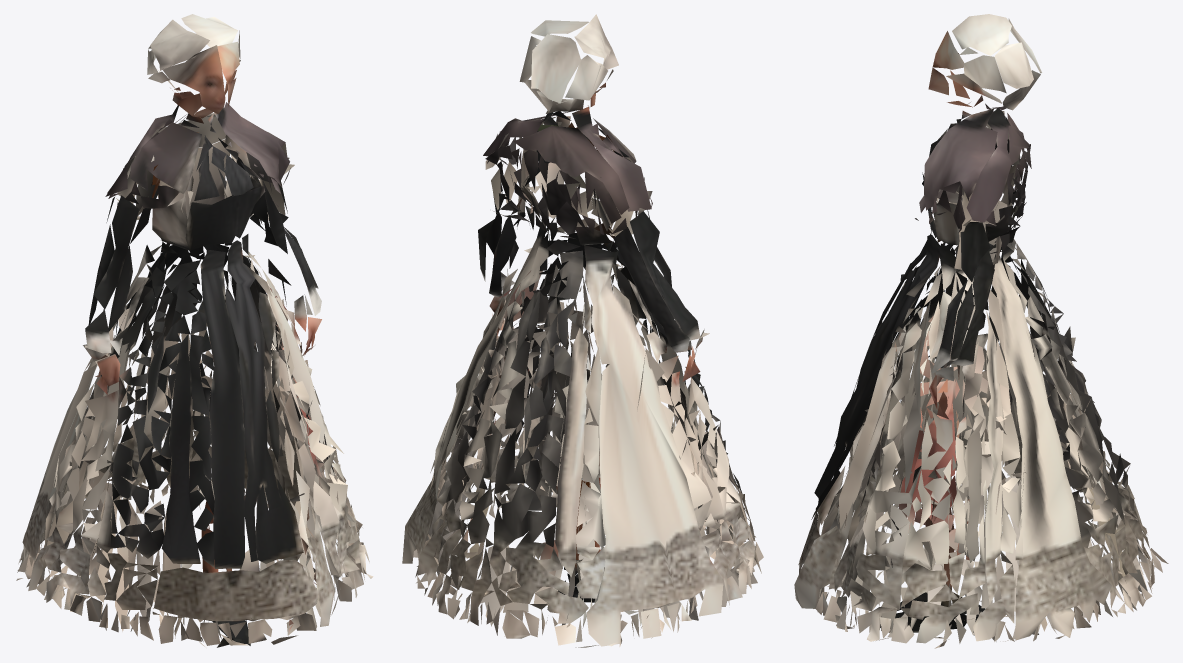
The model's file is char_old_f_bonnet.glb.
The picture shows the model from 3 angles, left to right: view 1: azimuth 30°, elevation 25°; view 2: azimuth 150°, elevation 25°; view 3: azimuth 270°, elevation 25°; orthographic projection. The views are drawn at different scales.
Visible parts, largest first — view 1: geometry_0; view 2: geometry_0; view 3: geometry_0.
Boxes of the visible parts, x1=… form: geometry_0: x1=16, y1=14, x2=373, y2=647; geometry_0: x1=402, y1=14, x2=763, y2=647; geometry_0: x1=794, y1=14, x2=1168, y2=648.
Size of the model in its own units: 0.9419 by 1.69 by 0.9443.
1 material, 1 textured.
